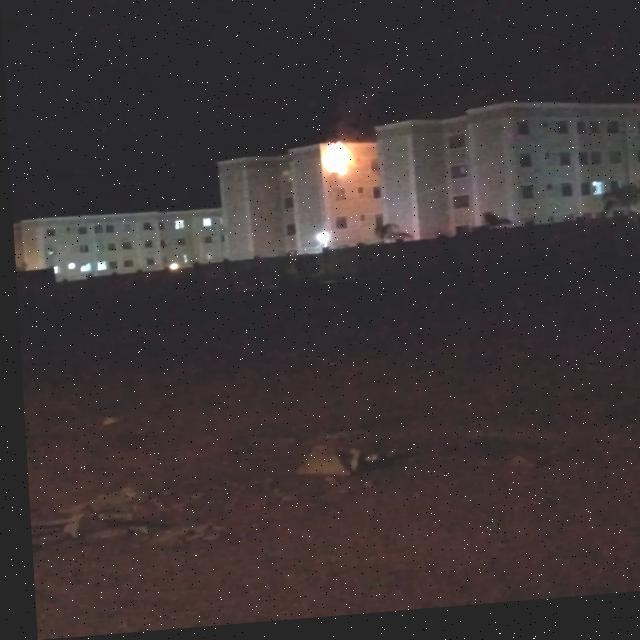Fire: (320, 145, 354, 185)
